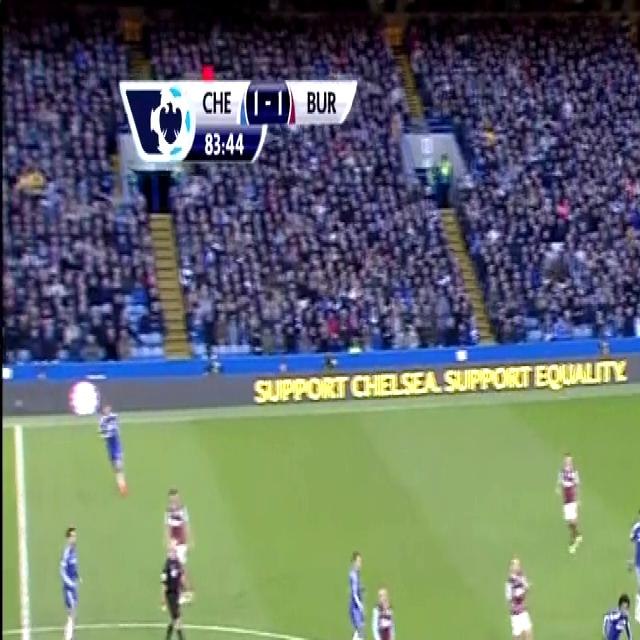referee: (155, 535, 191, 640)
soccer-player: (552, 434, 592, 560), (51, 517, 88, 640), (502, 542, 547, 640), (96, 393, 132, 502), (164, 480, 197, 589), (341, 538, 372, 640), (587, 590, 635, 640), (371, 583, 407, 640), (627, 491, 640, 631)
